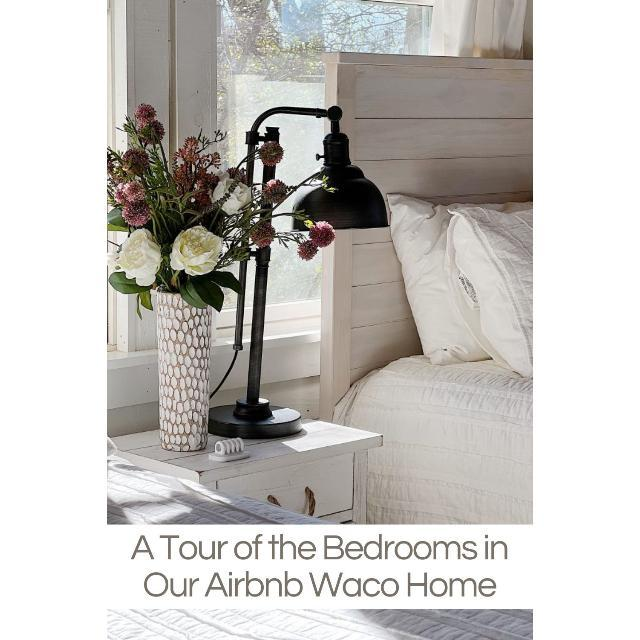bed: (320, 50, 533, 528)
side-table: (109, 399, 385, 525)
